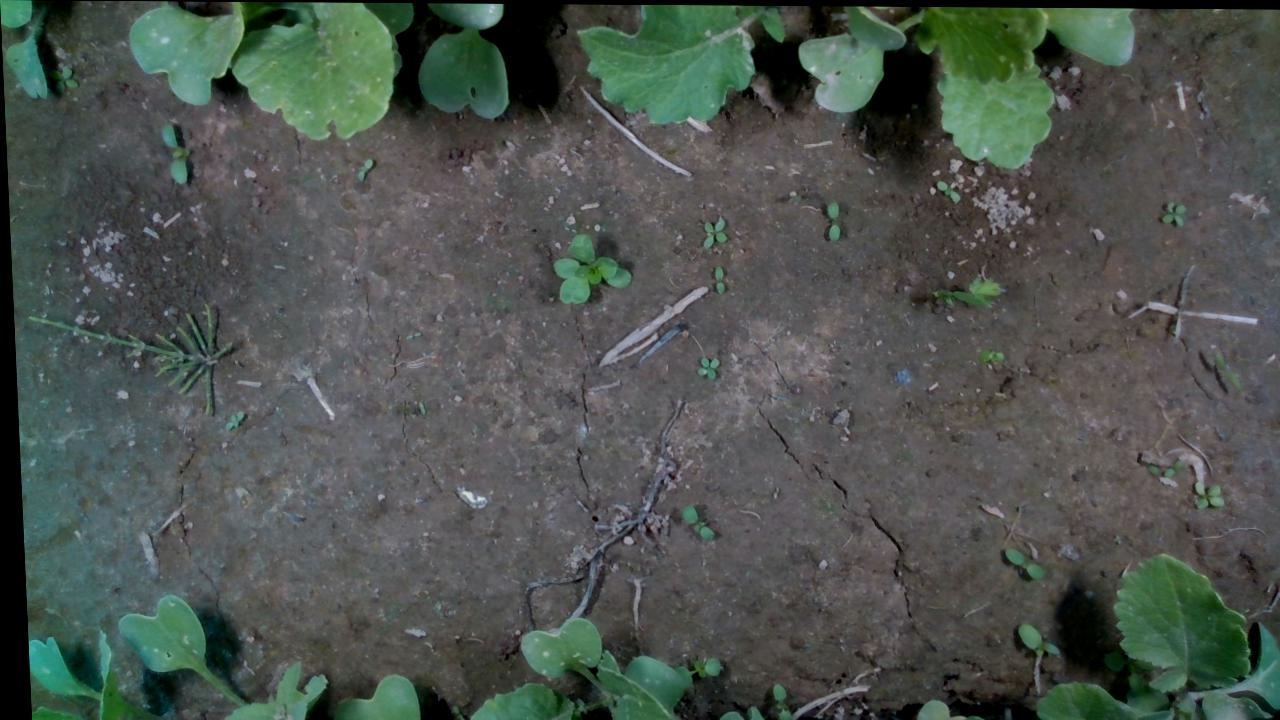weed: (158, 121, 188, 184), (1008, 620, 1054, 656), (1208, 342, 1237, 390), (672, 502, 709, 539), (998, 545, 1039, 578), (696, 215, 725, 247), (1188, 479, 1219, 508), (763, 680, 786, 719), (46, 64, 76, 90), (1158, 198, 1184, 225), (822, 199, 839, 240), (933, 177, 958, 202), (690, 355, 717, 378), (353, 155, 372, 181), (708, 262, 722, 293), (1159, 456, 1180, 476)
